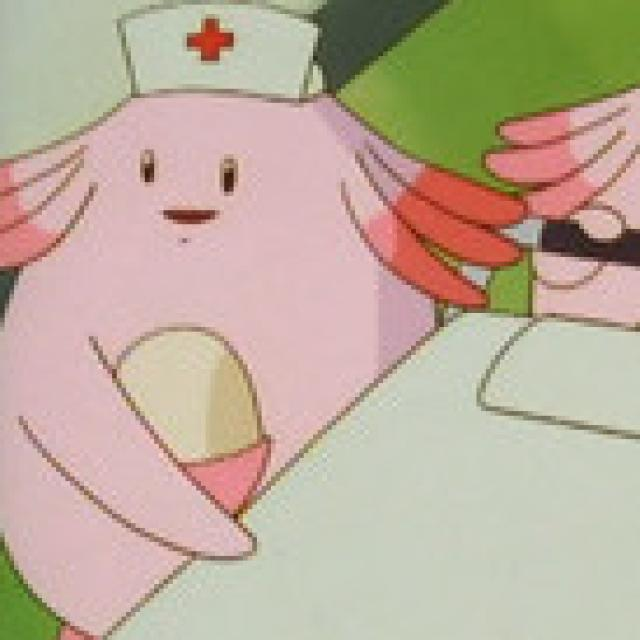Chansey: (9, 114, 455, 566)
